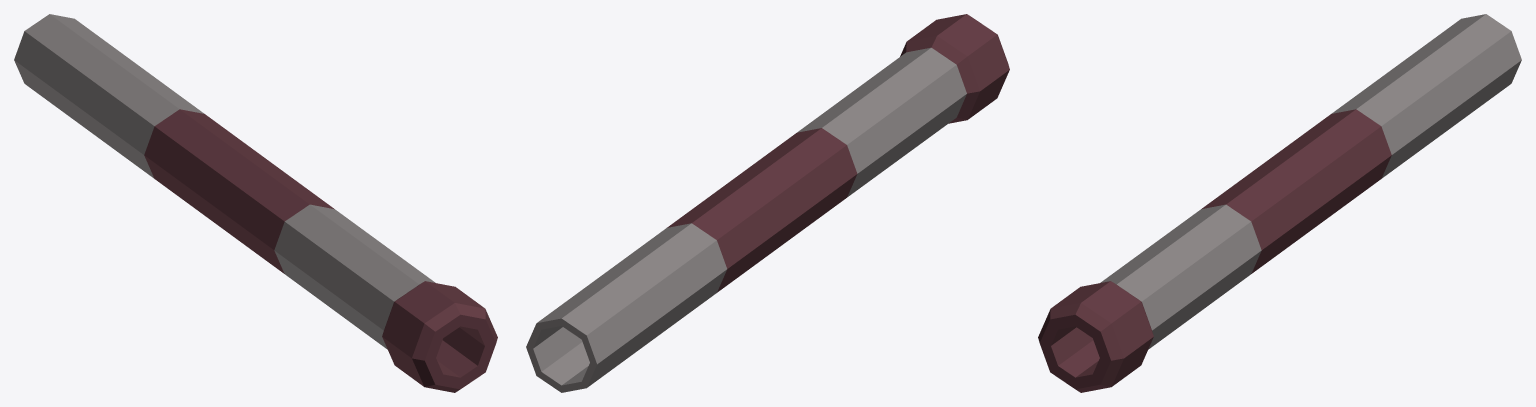
Rendered from scifi-scifi-tube-long.glb.
3 views of the same model, side by side, from view 1: azimuth 30°, elevation 25°; view 2: azimuth 150°, elevation 25°; view 3: azimuth 330°, elevation 25° (orthographic).
Visible parts, largest first — view 1: scifi-tube-long; view 2: scifi-tube-long; view 3: scifi-tube-long.
Part boxes in pixels (x1,y1,x2,y2): scifi-tube-long: (14,14,497,392); scifi-tube-long: (526,14,1009,392); scifi-tube-long: (1038,14,1521,392).
Bounding box in the file's own units: 0.242 × 0.242 × 2.
